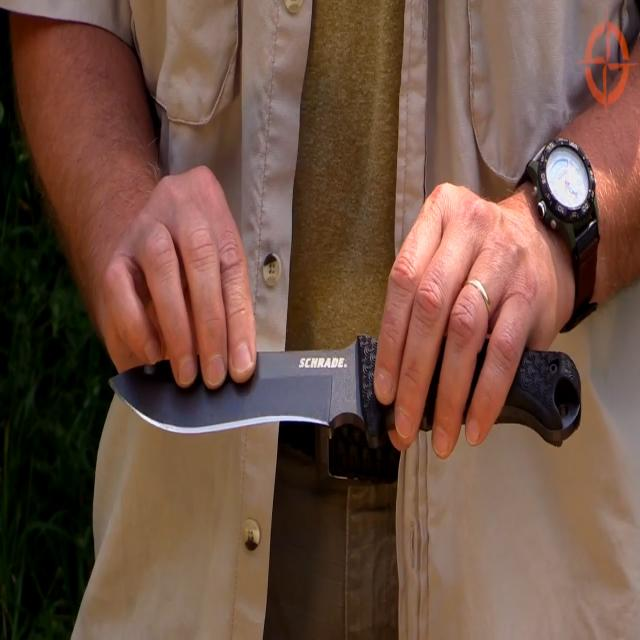knife: (105, 324, 589, 452)
